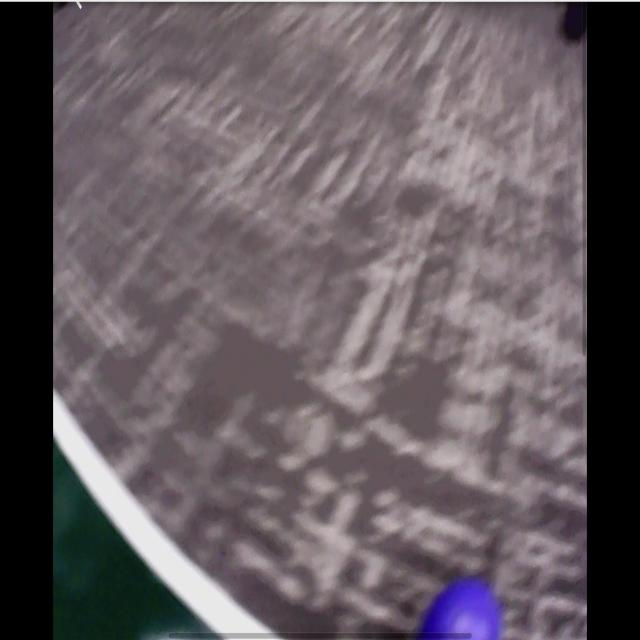ball: (424, 577, 502, 640)
